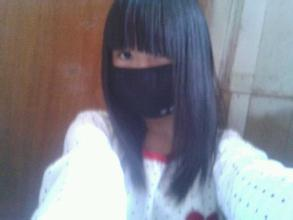face_mask: (111, 41, 179, 117)
